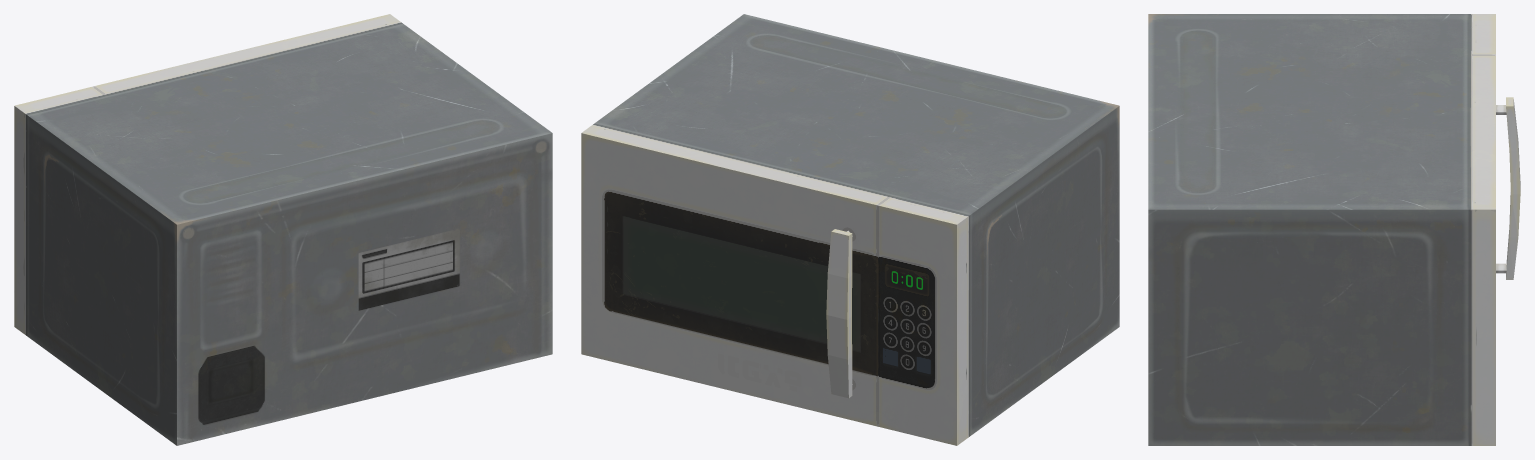
Rendered from P_Microwave_002_S1_M01.obj.
3 views of the same model, side by side, from view 1: azimuth 30°, elevation 25°; view 2: azimuth 150°, elevation 25°; view 3: azimuth 270°, elevation 25° (orthographic). The views are drawn at different scales.
Size of the model in its own units: 0.8 by 0.45 by 0.6427.
2 materials, 2 textured.
